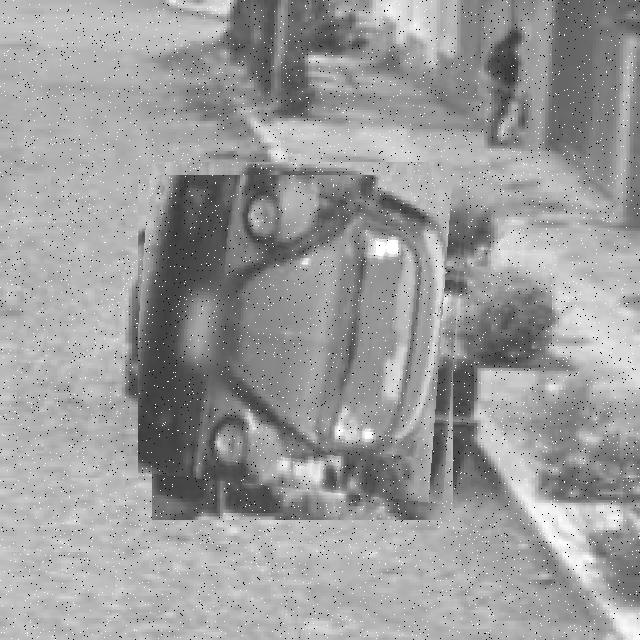car: (139, 177, 468, 507)
